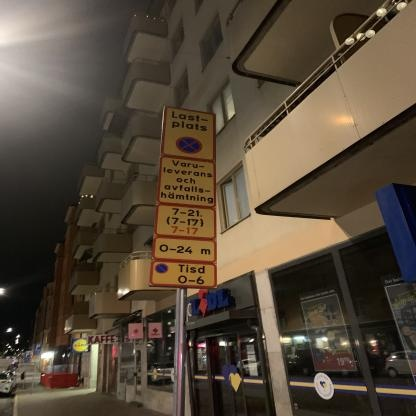lastplats: (160, 105, 217, 163)
